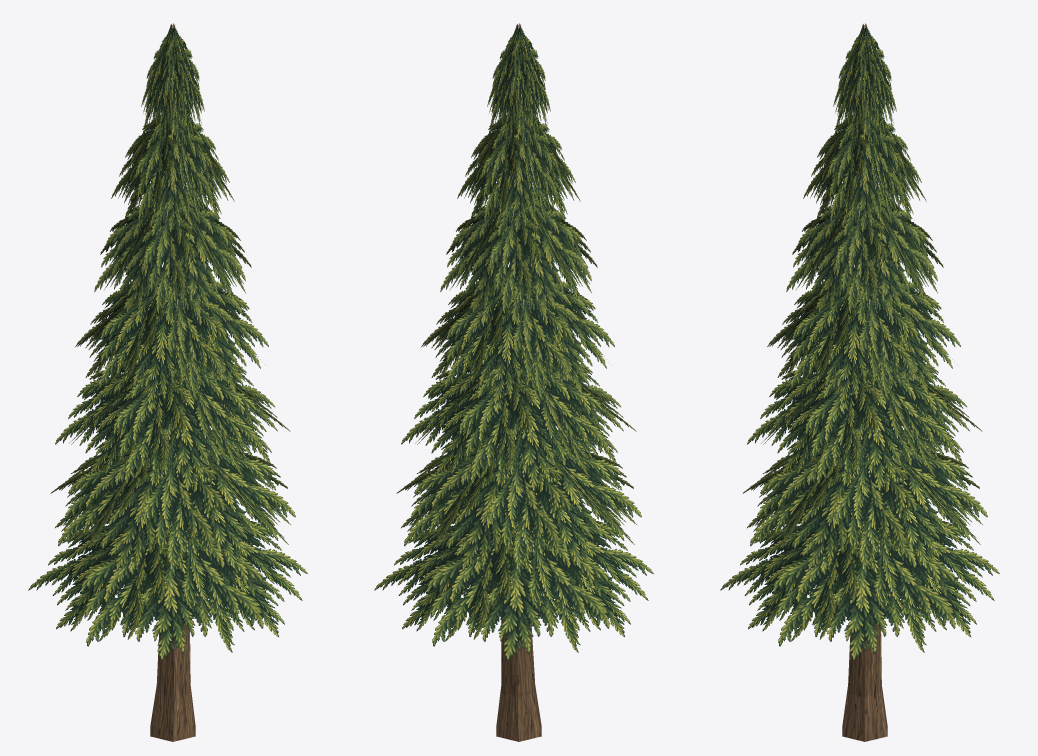
File: Abete_02_Slanciato.obj
The picture shows the model from 3 angles, left to right: view 1: azimuth 30°, elevation 25°; view 2: azimuth 150°, elevation 25°; view 3: azimuth 270°, elevation 25°; orthographic projection.
Parts seen in each view (by area): view 1: Abete_02_Slanciato; view 2: Abete_02_Slanciato; view 3: Abete_02_Slanciato.
Boxes of the visible parts, x1,y1,x2,y2 form: Abete_02_Slanciato: (28,23,307,741); Abete_02_Slanciato: (374,23,653,741); Abete_02_Slanciato: (720,23,999,741).
Bounding box in the file's own units: 2.7 × 7.2 × 2.93.
2 materials, 2 textured.
